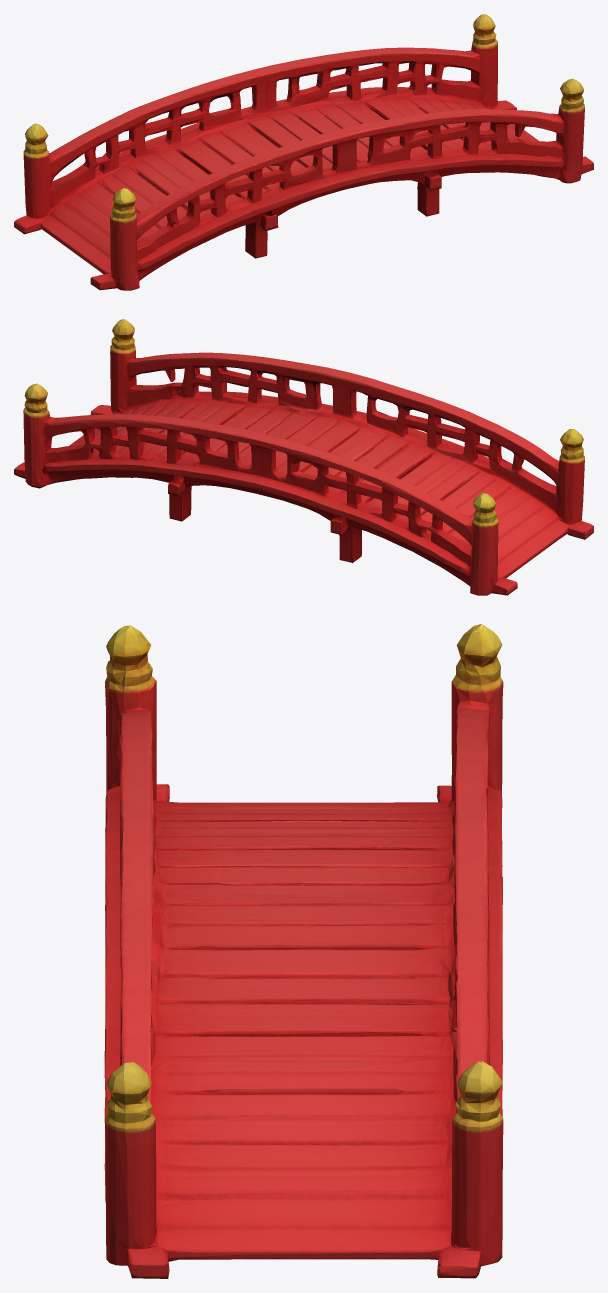
Rendered from bridge.fbx.
3 renders of one model, top to bottom at view 1: azimuth 30°, elevation 25°; view 2: azimuth 150°, elevation 25°; view 3: azimuth 270°, elevation 25°, orthographic. The views are drawn at different scales.
Visible parts, largest first — view 1: geometry_0; view 2: geometry_0; view 3: geometry_0.
Part boxes in pixels (x1,y1,x2,y2): geometry_0: [14, 14, 593, 290]; geometry_0: [14, 319, 593, 595]; geometry_0: [104, 624, 503, 1278].
Bounding box in the file's own units: 0.9995 × 0.2003 × 0.3493.
Materials: 1 (1 with a texture image).
